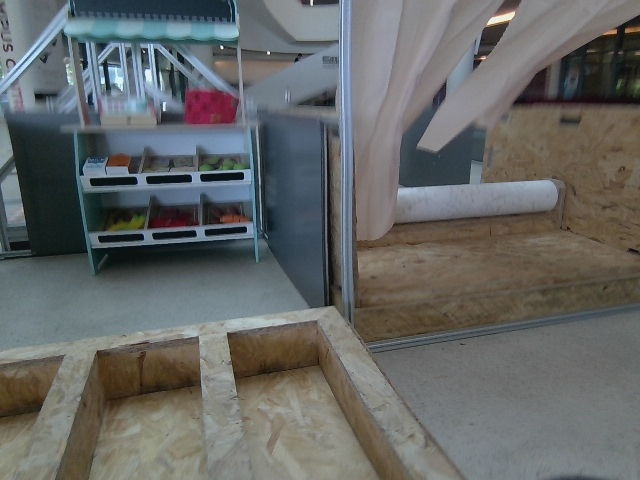curtain: (333, 0, 531, 230)
